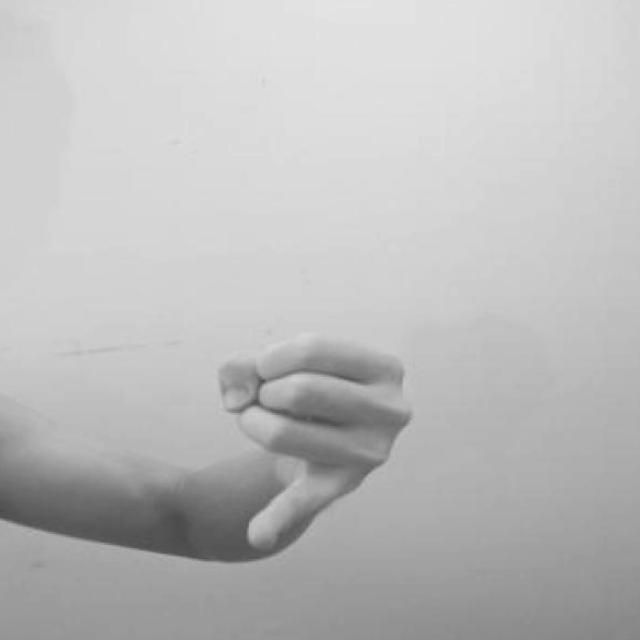J: (215, 325, 421, 559)
